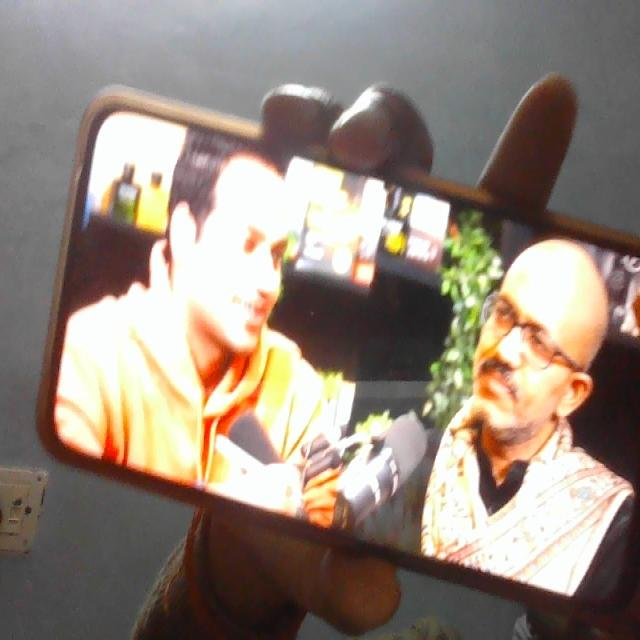fake: (464, 213, 587, 447)
